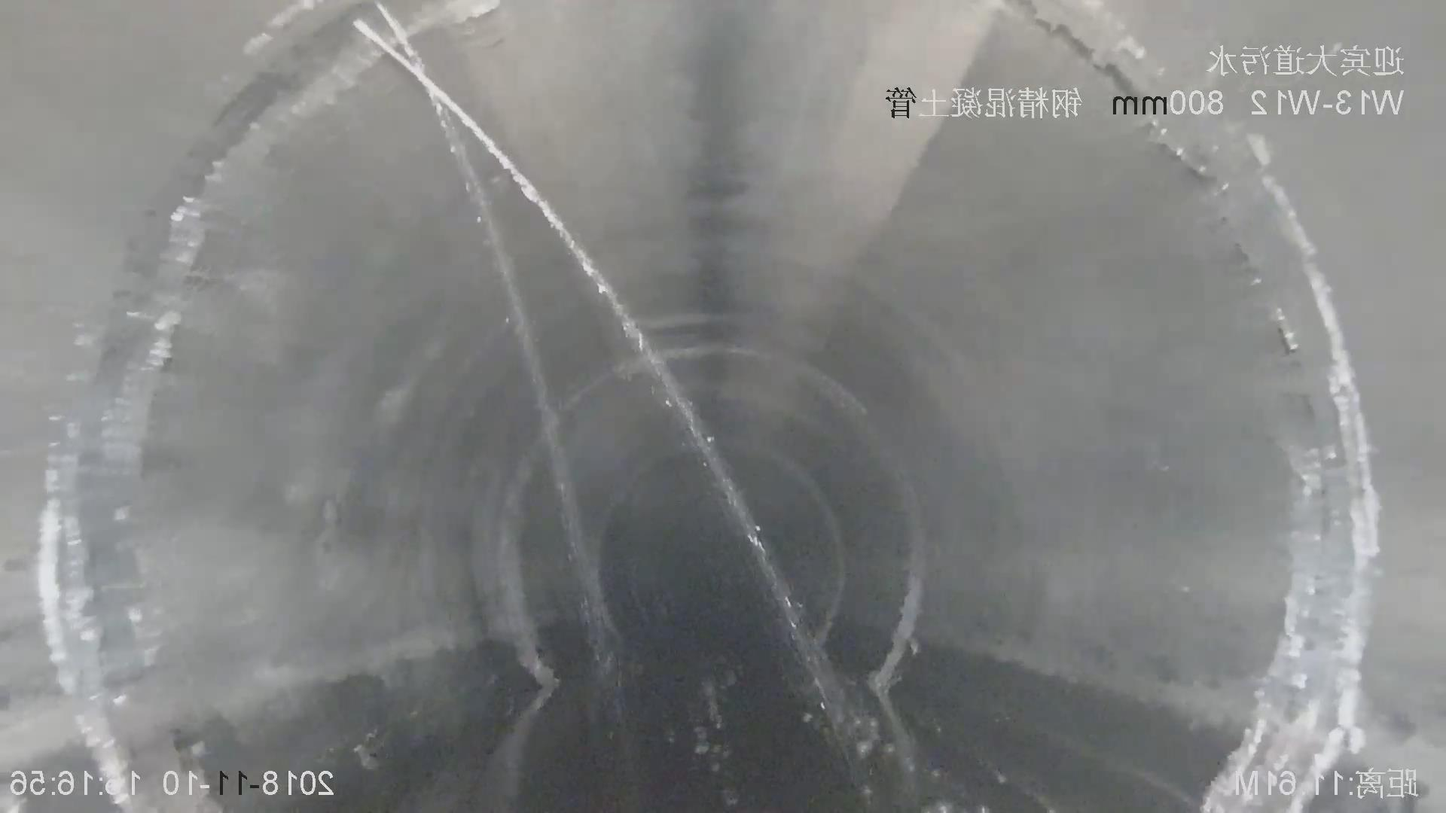SL: (332, 0, 949, 807)
